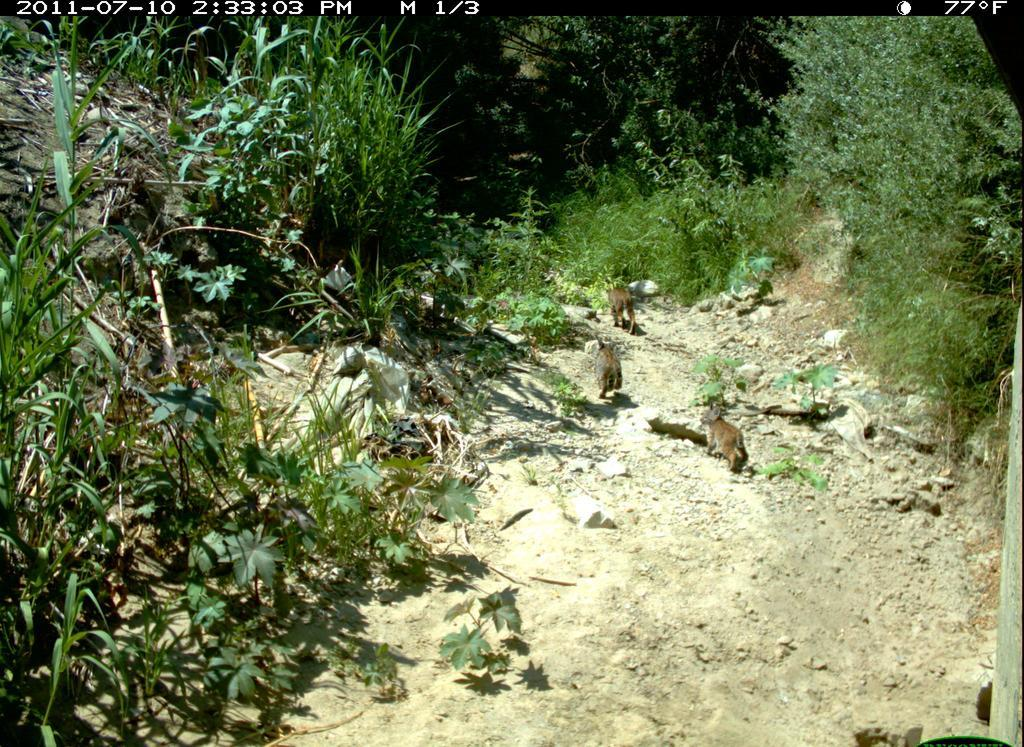bobcat: (699, 400, 758, 474), (593, 340, 628, 397), (605, 283, 643, 334)
